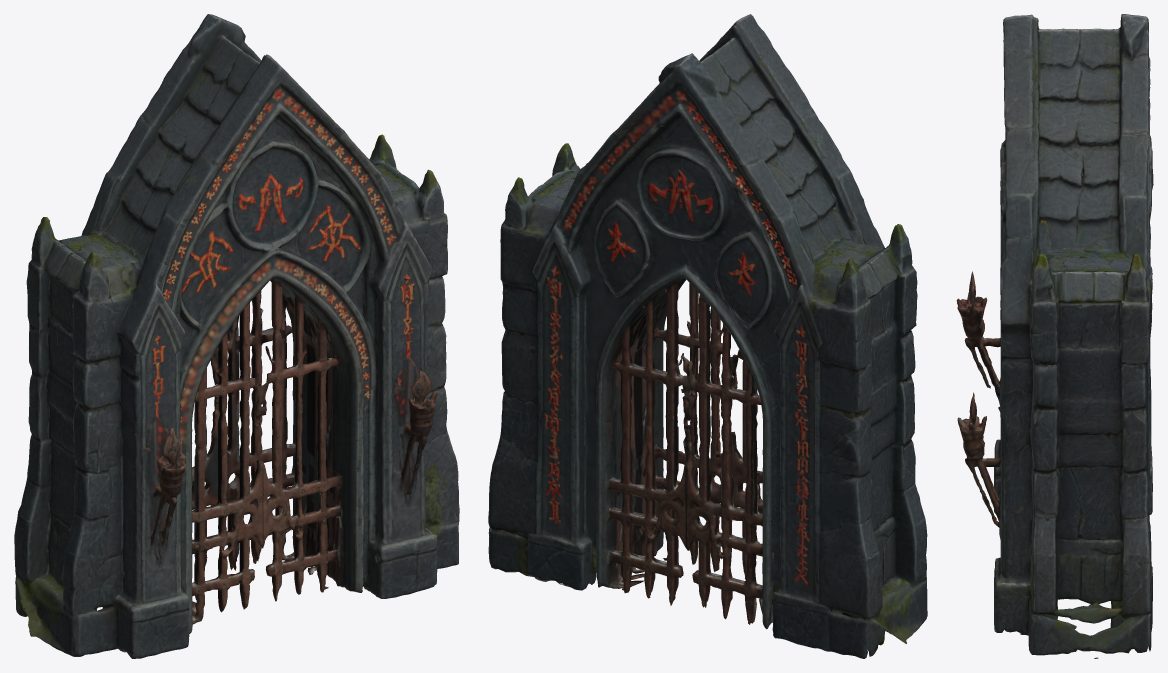
The model's file is TowerGate.glb.
3 views of the same model, side by side, from view 1: azimuth 30°, elevation 25°; view 2: azimuth 150°, elevation 25°; view 3: azimuth 270°, elevation 25° (orthographic).
Visible parts, largest first — view 1: texture_mapping; view 2: texture_mapping; view 3: texture_mapping.
Boxes of the visible parts, <box> form: texture_mapping: <box>14,14,459,658</box>; texture_mapping: <box>488,14,927,658</box>; texture_mapping: <box>956,14,1153,658</box>.
Bounding box in the file's own units: 0.7546 × 0.9963 × 0.3228.
Materials: 1 (1 with a texture image).
